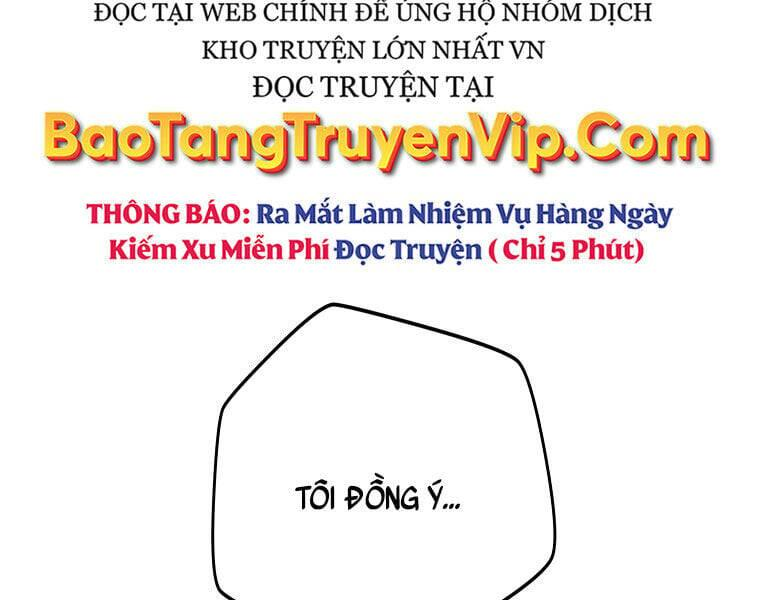quangcao: (47, 0, 714, 262)
